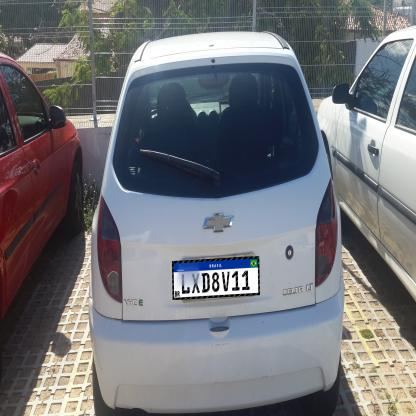PlacaM: (172, 256, 260, 300)
